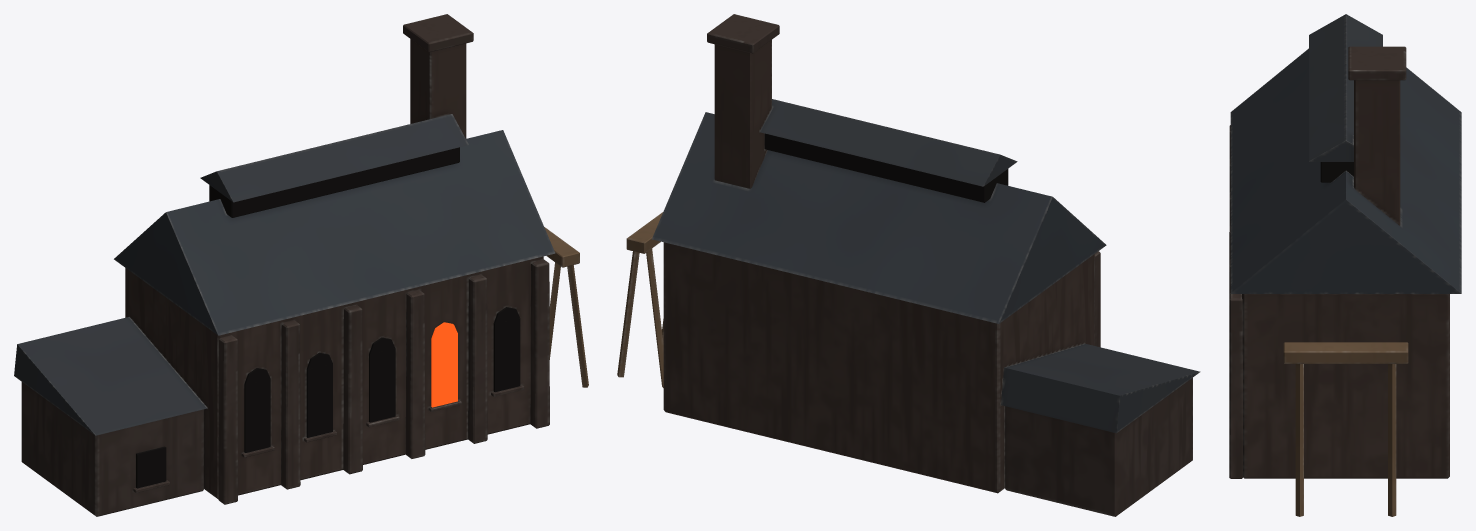
The model's file is foundry_skyline_works.glb.
The picture shows the model from 3 angles, left to right: view 1: azimuth 30°, elevation 25°; view 2: azimuth 150°, elevation 25°; view 3: azimuth 270°, elevation 25°; orthographic projection. The views are drawn at different scales.
Visible parts, largest first — view 1: foundry_skyline_works, foundry_skyline_works_glow; view 2: foundry_skyline_works; view 3: foundry_skyline_works.
Boxes of the visible parts, bbox=[...] form: foundry_skyline_works: bbox=[14, 14, 588, 516]; foundry_skyline_works_glow: bbox=[431, 322, 457, 407]; foundry_skyline_works: bbox=[617, 14, 1200, 516]; foundry_skyline_works: bbox=[1229, 14, 1461, 516].
Size of the model in its own units: 28.08 by 18.97 by 10.05.
2 materials, 1 textured.
